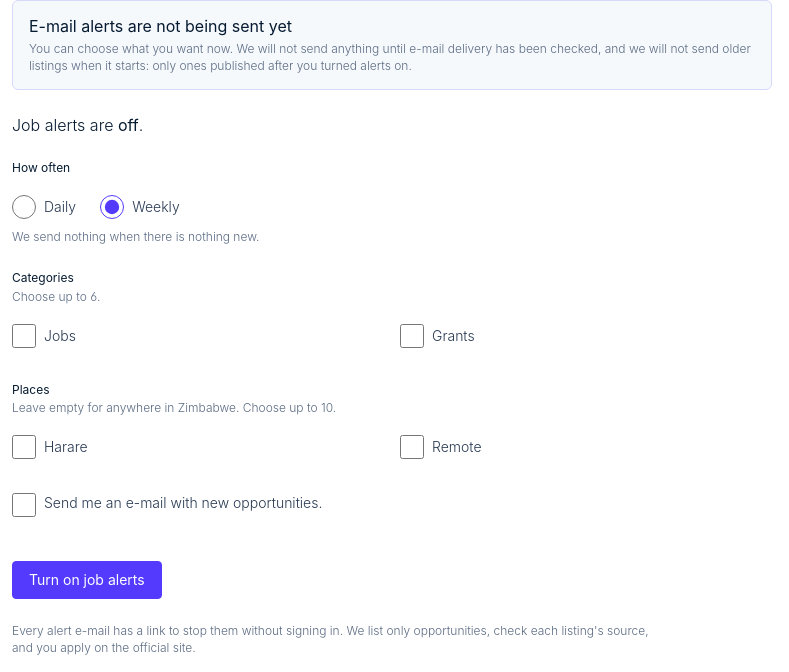
Test case: alert form › turns alerts on with the explicit consent and the chosen options
Click the checkbox labelled "Jobs": (24, 336) [12,324,36,348]
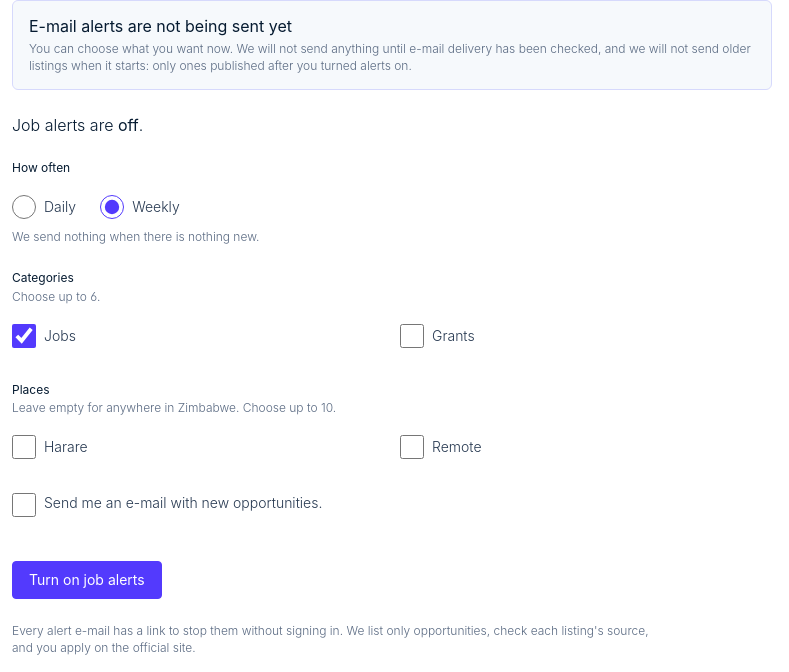
Click the radio button labelled "Daily": (24, 207) [12,195,36,219]
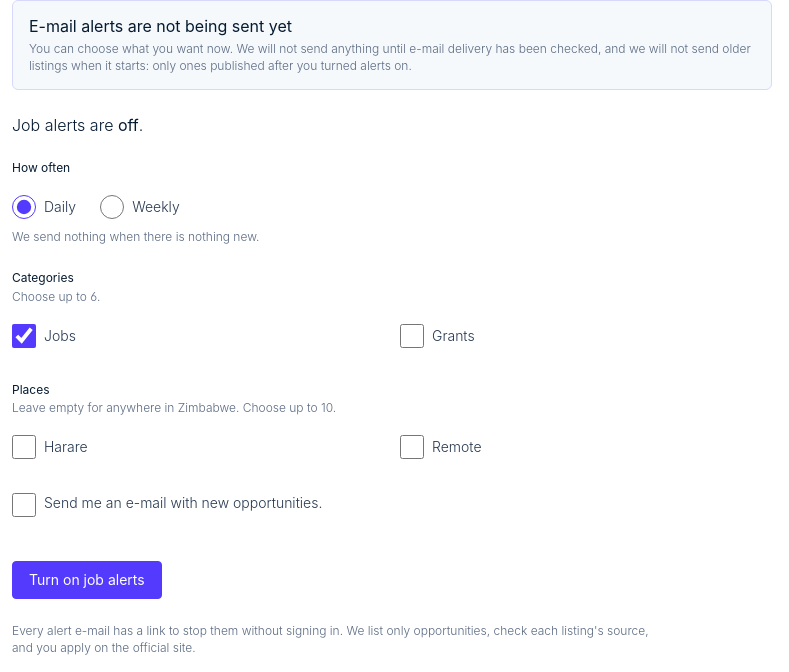
Click the checkbox labelled "Send me an e-mail with new opportunities.": (24, 505) [12,493,36,517]
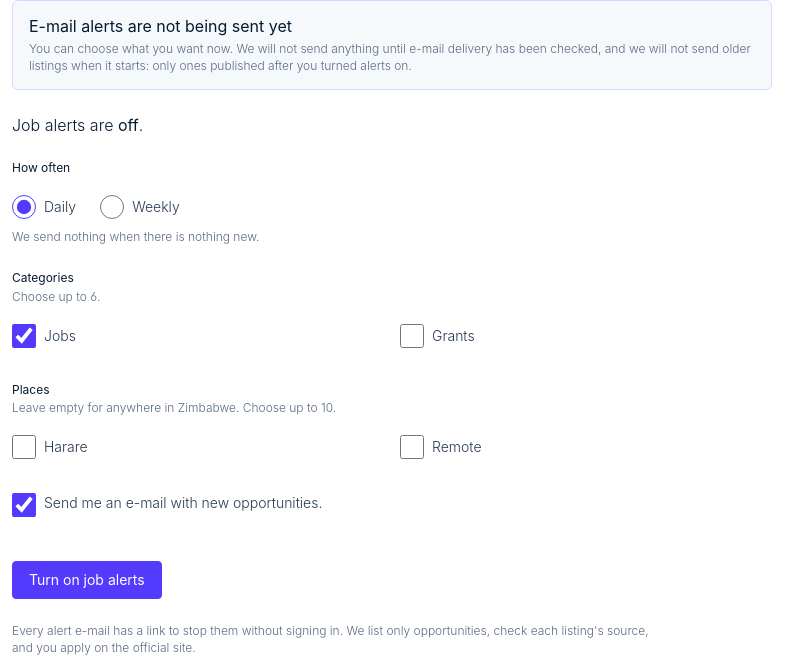
Click the button "Turn on job alerts": (87, 580) [12,561,162,599]
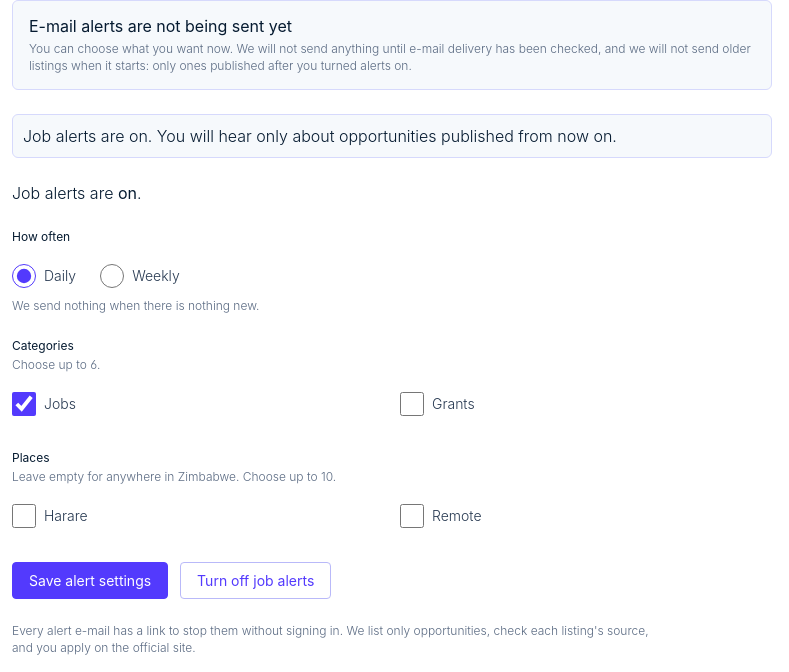
Now the element with test id "alert-state" shows "on", box [118,183,137,203]
